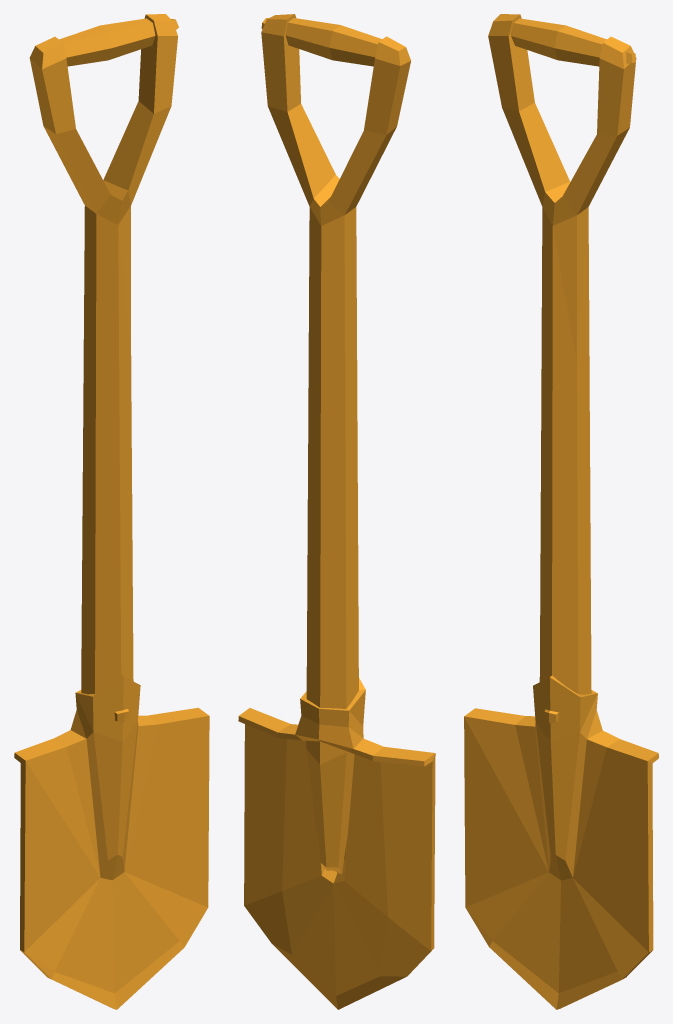
Rendered from SM_Spade_Farm_A.fbx.
The picture shows the model from 3 angles, left to right: view 1: azimuth 30°, elevation 25°; view 2: azimuth 150°, elevation 25°; view 3: azimuth 330°, elevation 25°; orthographic projection.
Parts seen in each view (by area): view 1: spade-farm-a; view 2: spade-farm-a; view 3: spade-farm-a.
Boxes of the visible parts, x1,y1,x2,y2 form: spade-farm-a: [14, 14, 209, 1009]; spade-farm-a: [238, 14, 435, 1009]; spade-farm-a: [464, 14, 658, 1009].
Size of the model in its own units: 0.2188 by 1.1 by 0.0627.
